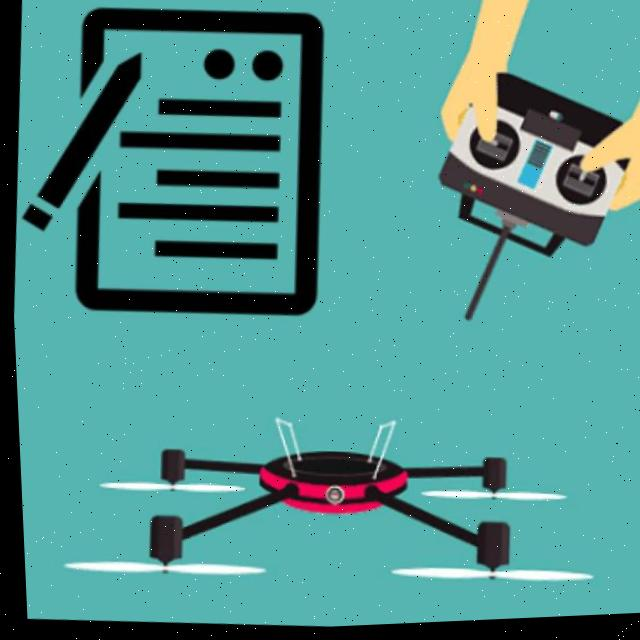drones: (23, 368, 618, 635)
